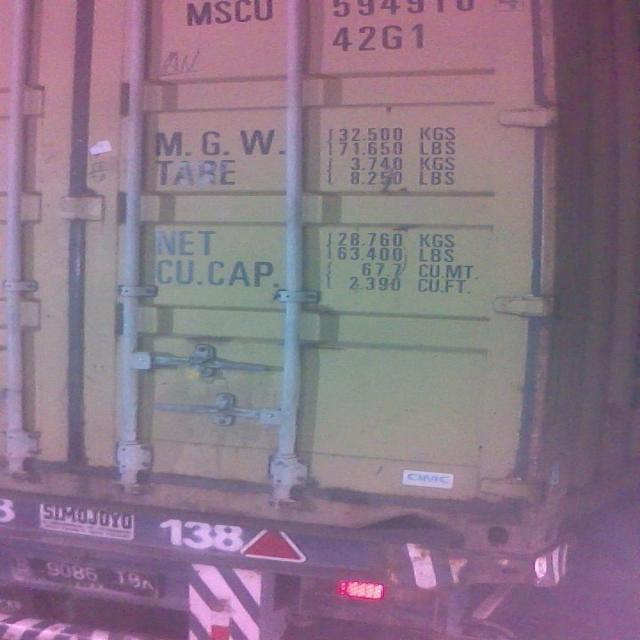seal: (186, 357, 210, 383)
